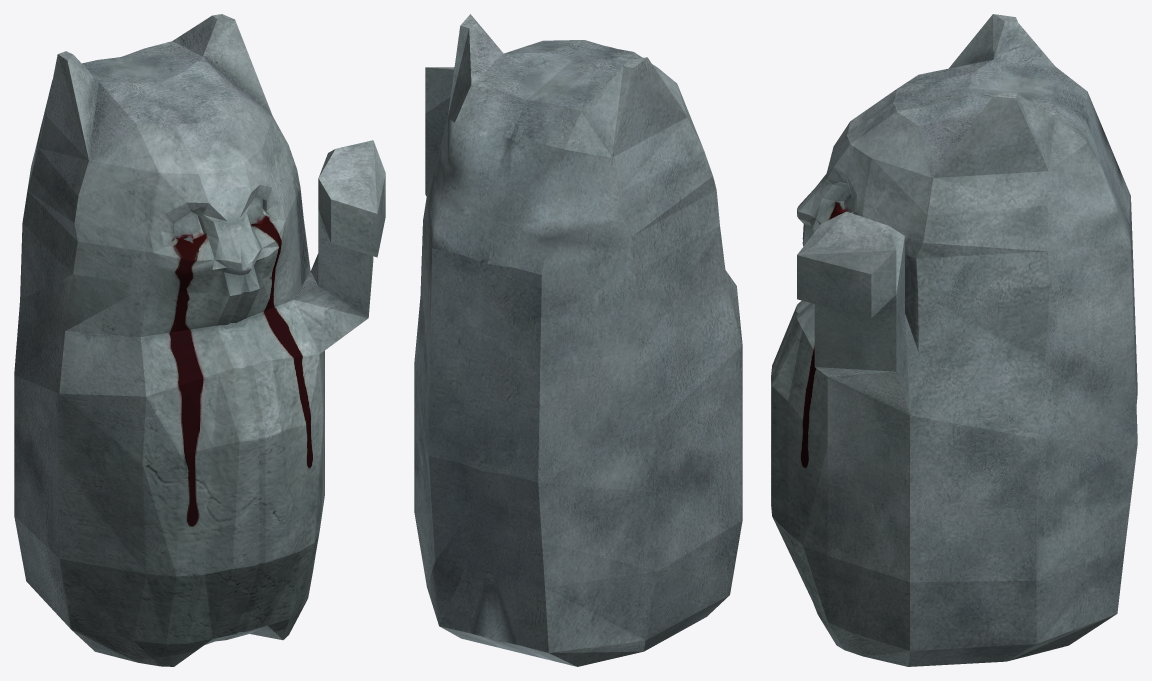
The model's file is Meshy_AI_manekineko02_0729110844_texture.fbx.
3 renders of one model, left to right at view 1: azimuth 30°, elevation 25°; view 2: azimuth 150°, elevation 25°; view 3: azimuth 270°, elevation 25°, orthographic. The views are drawn at different scales.
Parts seen in each view (by area): view 1: mesh_node; view 2: mesh_node; view 3: mesh_node.
Part boxes in pixels (<box>): mesh_node: <box>14,14,385,666</box>; mesh_node: <box>414,14,742,666</box>; mesh_node: <box>771,14,1137,666</box>.
Size of the model in its own units: 115 by 200 by 118.
1 material, 1 textured.
